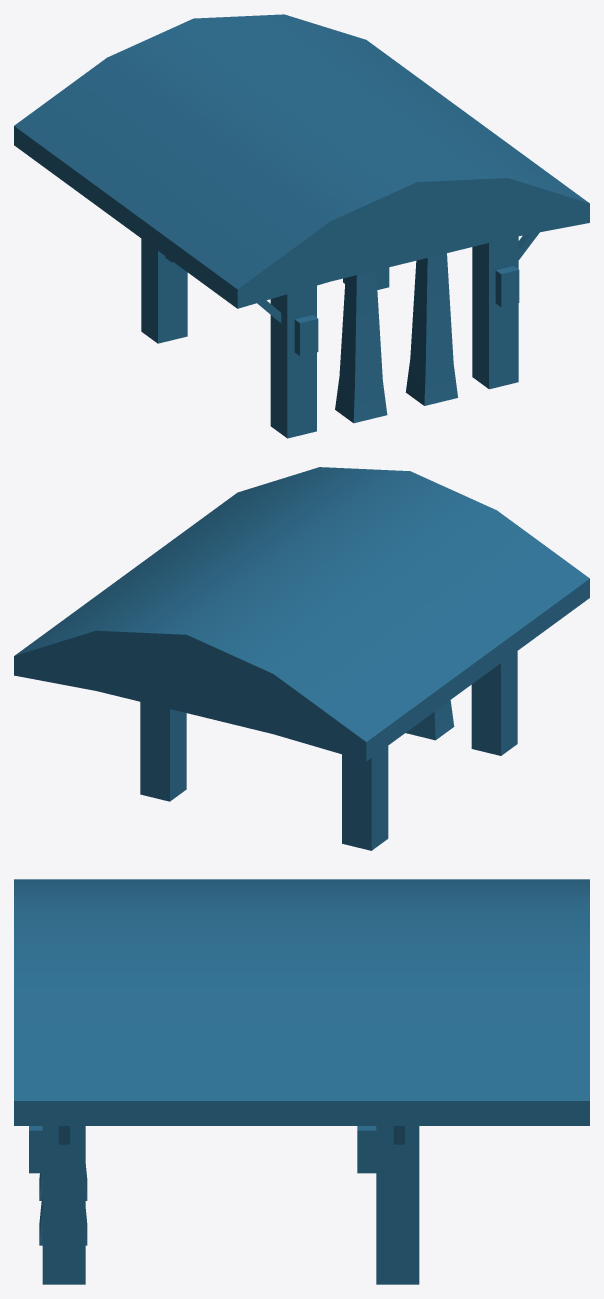
Rendered from SM_Bld_Facade_Background_03_Collision.fbx.
3 views of the same model, one above another, from view 1: azimuth 30°, elevation 25°; view 2: azimuth 150°, elevation 25°; view 3: azimuth 270°, elevation 25° (orthographic). The views are drawn at different scales.
Parts seen in each view (by area): view 1: SM_Bld_Facade_Background_03_Collision; view 2: SM_Bld_Facade_Background_03_Collision; view 3: SM_Bld_Facade_Background_03_Collision.
Boxes of the visible parts, x1,y1,x2,y2 form: SM_Bld_Facade_Background_03_Collision: (14,14,589,438); SM_Bld_Facade_Background_03_Collision: (14,467,589,850); SM_Bld_Facade_Background_03_Collision: (14,879,589,1284).
Bounding box in the file's own units: 1091 × 697 × 1198.
